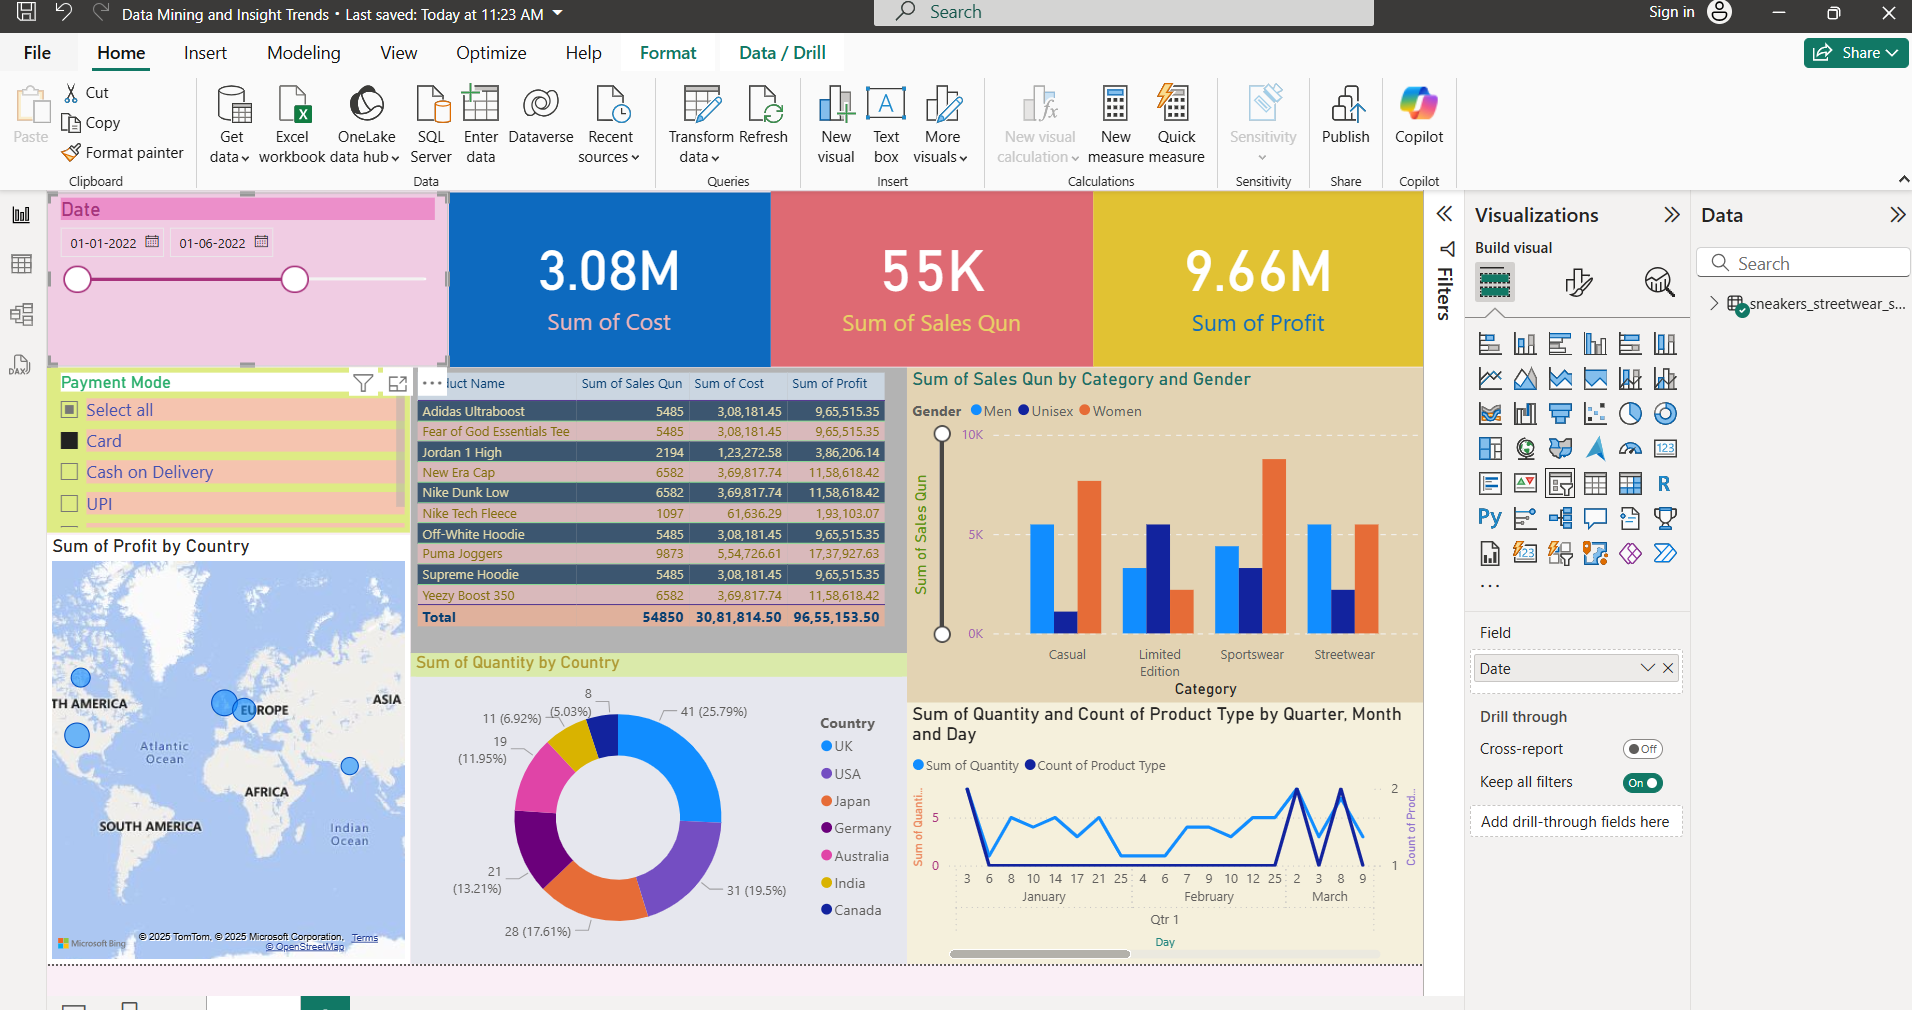

What the dashboard file says about the page in this screenshot:
{"tool":"powerbi","page":{"name":"Page 1","canvas":[1280,720],"ordinal":0},"visuals":[{"type":"card","fields":{"Values":["Sum(sneakers_streetwear_sales_data.Sum of Sales Quantity)"]},"box":[673.3,1.2,299.8,163.4],"z":0},{"type":"card","fields":{"Values":["Sum(sneakers_streetwear_sales_data.Sum of Cost Unit Price)"]},"box":[373.5,2.5,299.8,162.2],"z":1000},{"type":"card","fields":{"Values":["Sum(sneakers_streetwear_sales_data.Sum of Profit Amount)"]},"box":[973.1,1.2,307.2,163.4],"z":2000},{"type":"clusteredColumnChart","fields":{"Category":["sneakers_streetwear_sales_data.Category","sneakers_streetwear_sales_data.Date.Variation.Date Hierarchy.Year","sneakers_streetwear_sales_data.Date.Variation.Date Hierarchy.Quarter"],"Y":["Sum(sneakers_streetwear_sales_data.Sales Qun)"],"Series":["sneakers_streetwear_sales_data.Gender"]},"box":[800,165.1,480.2,311.6],"z":3000},{"type":"lineChart","fields":{"Category":["sneakers_streetwear_sales_data.Date.Variation.Date Hierarchy.Quarter","sneakers_streetwear_sales_data.Date.Variation.Date Hierarchy.Month","sneakers_streetwear_sales_data.Date.Variation.Date Hierarchy.Day"],"Y2":["CountNonNull(sneakers_streetwear_sales_data.Product Type)"],"Y":["Sum(sneakers_streetwear_sales_data.Quantity)"]},"box":[799.8,476.7,480.4,243.3],"z":4000},{"type":"donutChart","fields":{"Y":["Sum(sneakers_streetwear_sales_data.Quantity)"],"Category":["sneakers_streetwear_sales_data.Country"]},"box":[337.9,430,462,290],"z":5000},{"type":"tableEx","fields":{"Values":["sneakers_streetwear_sales_data.Product Name","Sum(sneakers_streetwear_sales_data.Sales Quantity)","Sum(sneakers_streetwear_sales_data.Cost Unit Price)","Sum(sneakers_streetwear_sales_data.Profit Amount)"]},"box":[337.9,164.6,462,265.4],"z":6000},{"type":"map","fields":{"Category":["sneakers_streetwear_sales_data.Country"],"Size":["Sum(sneakers_streetwear_sales_data.Profit)"]},"box":[0,320.7,337.9,399.3],"z":7000},{"type":"slicer","fields":{"Values":["sneakers_streetwear_sales_data.Payment Mode"]},"box":[0,164.6,337.9,153.6],"z":8000},{"type":"slicer","fields":{"Values":["sneakers_streetwear_sales_data.Date"]},"box":[0,2.5,373.5,161],"z":9000}]}

Visuals, with their boxes on the page's 1280x720 design canvas (x1, y1, x2, y2). These are canvas units, not pixel positions in the 1912x1010 screenshot, which may show the page scaled, cropped or inside an application window:
card - Sum(sneakers_streetwear_sales_data.Sum of Sales Quantity): l=673, t=1, r=973, b=165
card - Sum(sneakers_streetwear_sales_data.Sum of Cost Unit Price): l=374, t=2, r=673, b=165
card - Sum(sneakers_streetwear_sales_data.Sum of Profit Amount): l=973, t=1, r=1280, b=165
clusteredColumnChart - sneakers_streetwear_sales_data.Category x sneakers_streetwear_sales_data.Date.Variation.Date Hierarchy.Year: l=800, t=165, r=1280, b=477
lineChart - sneakers_streetwear_sales_data.Date.Variation.Date Hierarchy.Quarter x sneakers_streetwear_sales_data.Date.Variation.Date Hierarchy.Month: l=800, t=477, r=1280, b=720
donutChart - Sum(sneakers_streetwear_sales_data.Quantity) x sneakers_streetwear_sales_data.Country: l=338, t=430, r=800, b=720
tableEx - sneakers_streetwear_sales_data.Product Name x Sum(sneakers_streetwear_sales_data.Sales Quantity): l=338, t=165, r=800, b=430
map - sneakers_streetwear_sales_data.Country x Sum(sneakers_streetwear_sales_data.Profit): l=0, t=321, r=338, b=720
slicer - sneakers_streetwear_sales_data.Payment Mode: l=0, t=165, r=338, b=318
slicer - sneakers_streetwear_sales_data.Date: l=0, t=2, r=374, b=164
